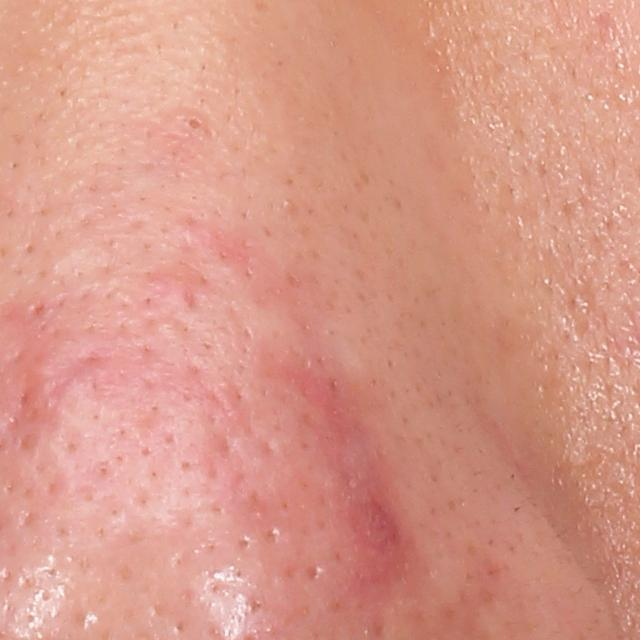comedo: (180, 114, 208, 138)
papule: (330, 480, 410, 586)
